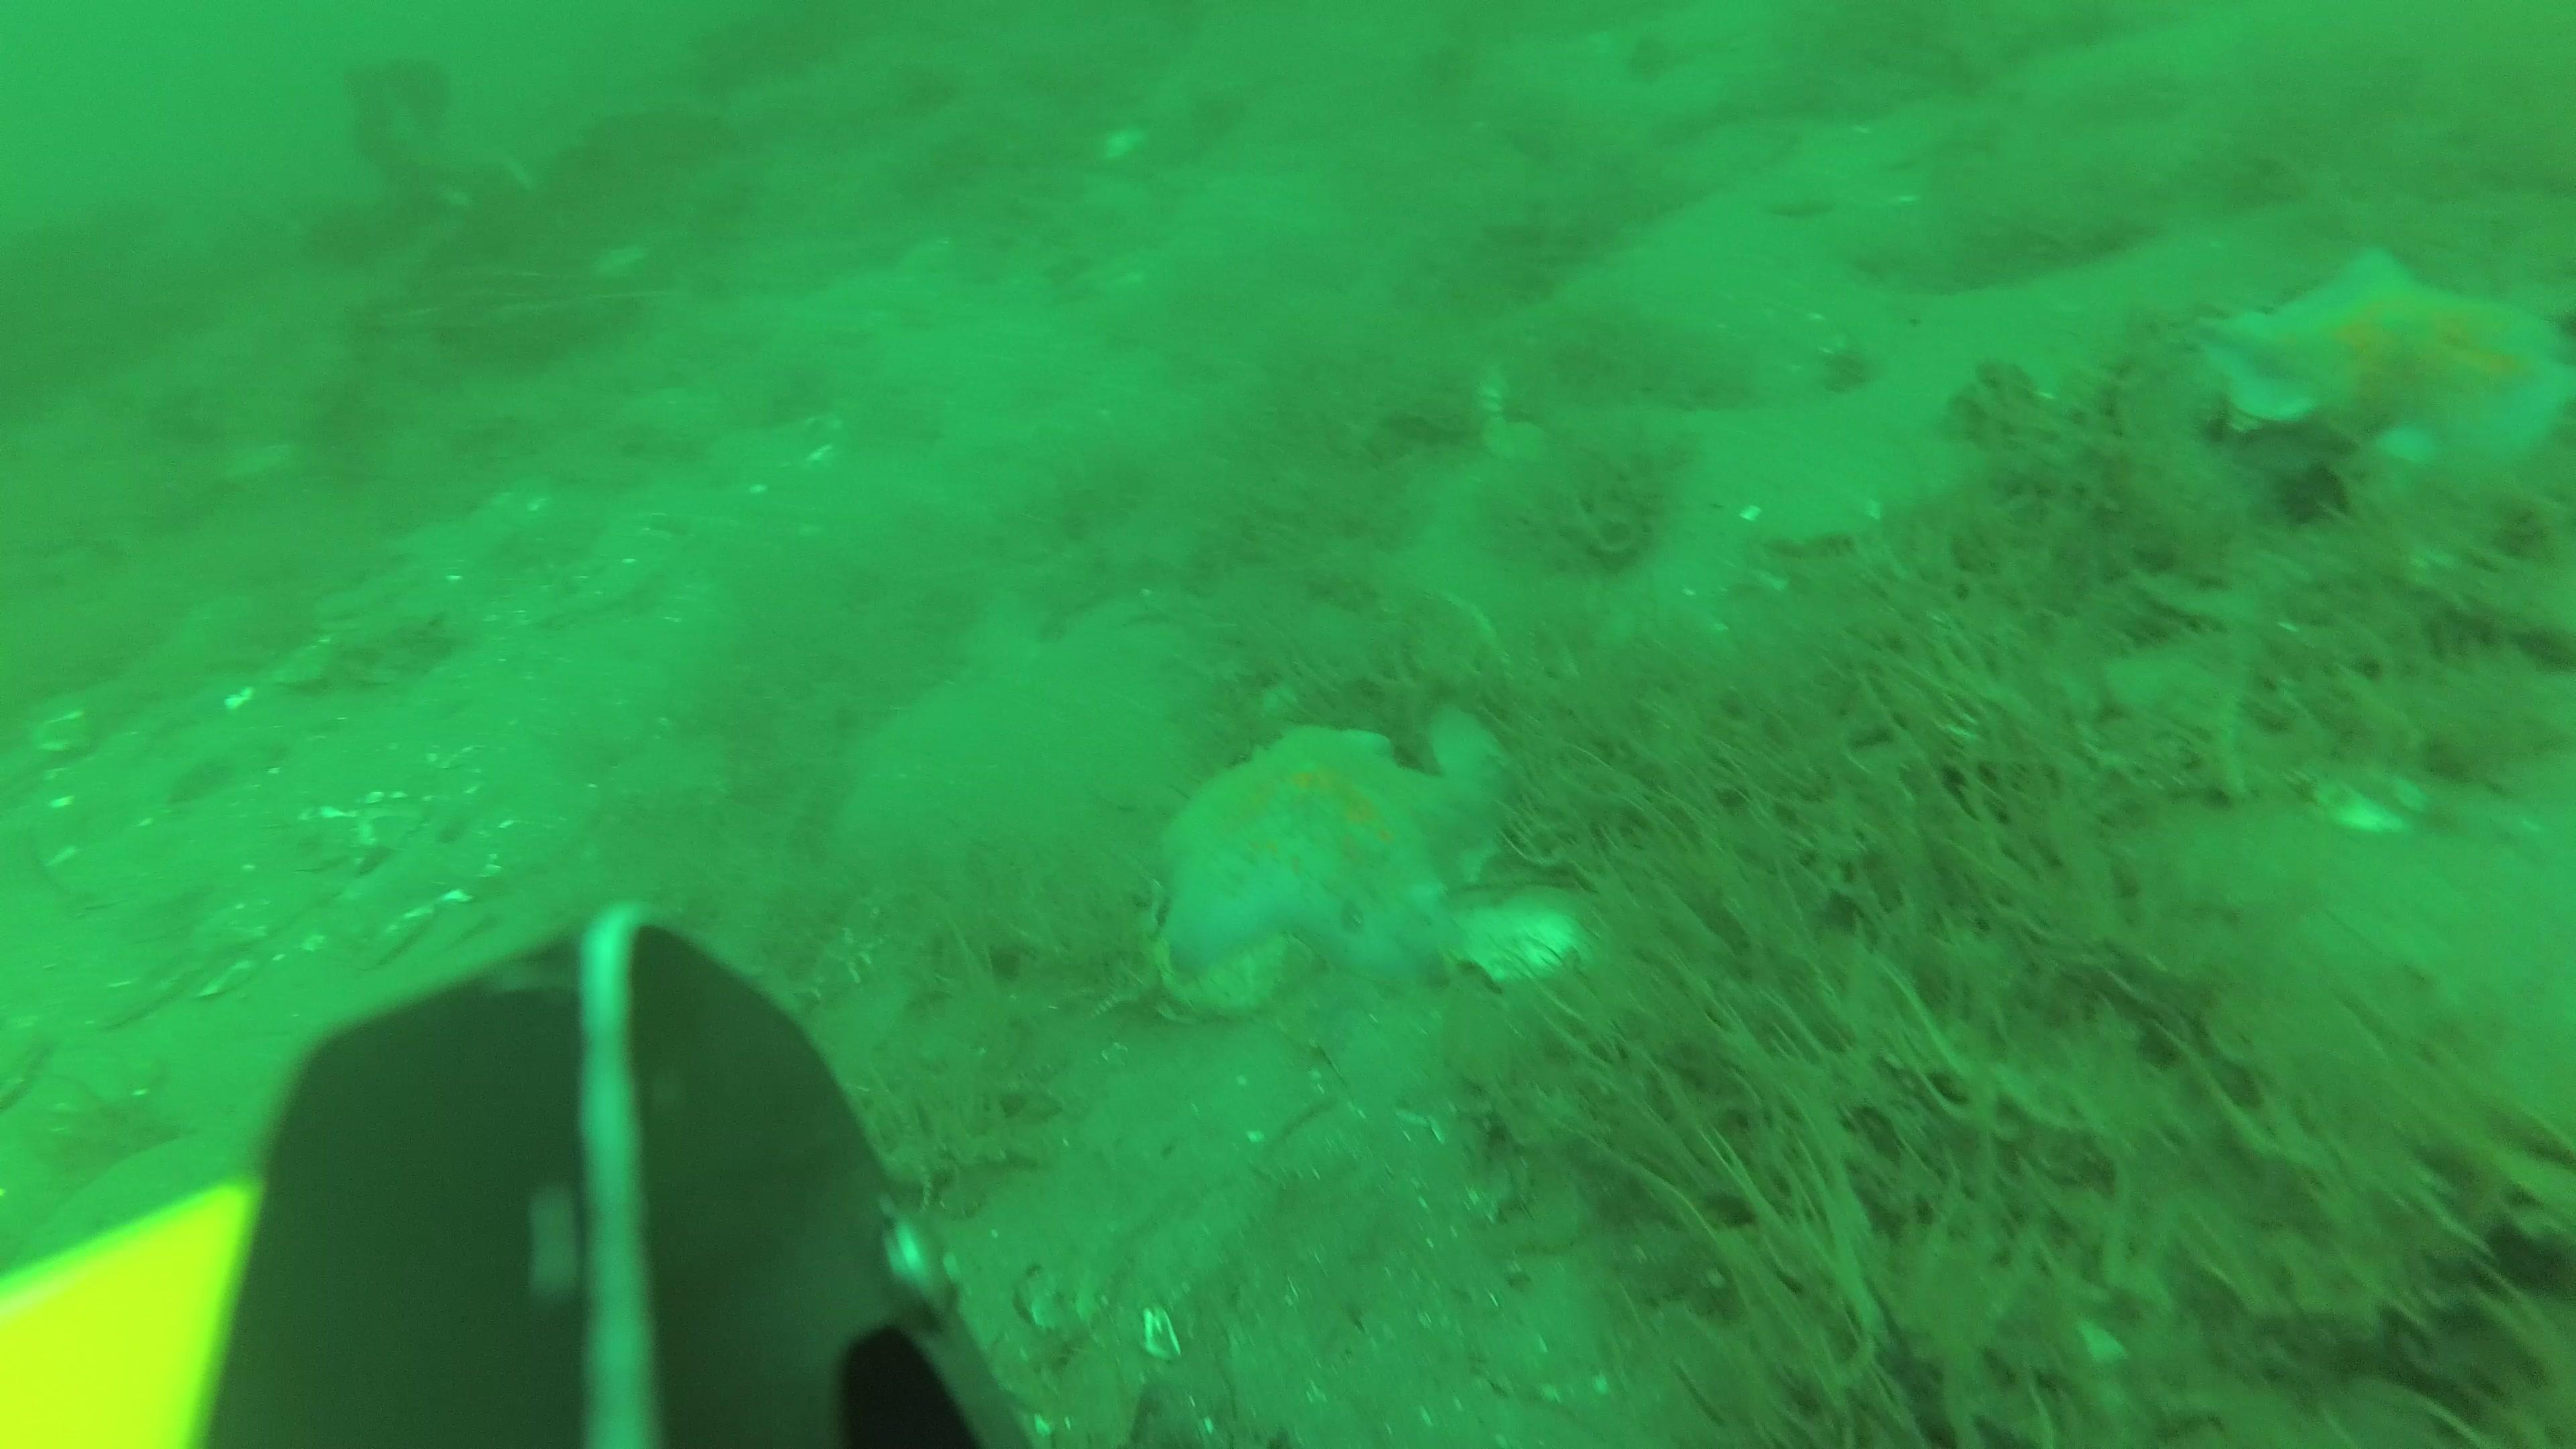scallop: (83, 952, 195, 1035)
starfish: (1138, 706, 1506, 978), (2210, 232, 2576, 485)
